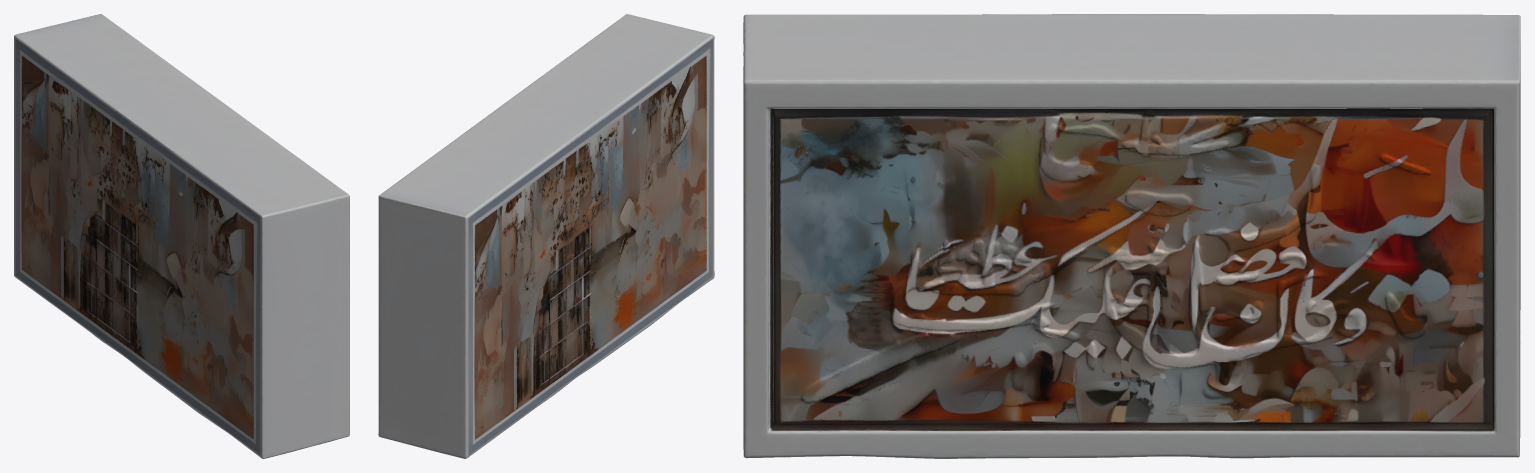
File: wall_panel.glb
3 renders of one model, left to right at view 1: azimuth 30°, elevation 25°; view 2: azimuth 150°, elevation 25°; view 3: azimuth 270°, elevation 25°, orthographic. The views are drawn at different scales.
Parts seen in each view (by area): view 1: tripo_node_67867db0-239a-4b5a-8ad7-fe538ae713de; view 2: tripo_node_67867db0-239a-4b5a-8ad7-fe538ae713de; view 3: tripo_node_67867db0-239a-4b5a-8ad7-fe538ae713de.
Part boxes in pixels (<box>): tripo_node_67867db0-239a-4b5a-8ad7-fe538ae713de: <box>14,14,349,458</box>; tripo_node_67867db0-239a-4b5a-8ad7-fe538ae713de: <box>378,14,714,458</box>; tripo_node_67867db0-239a-4b5a-8ad7-fe538ae713de: <box>743,14,1520,458</box>.
Bounding box in the file's own units: 0.2118 × 0.5433 × 1.
1 material, 1 textured.
